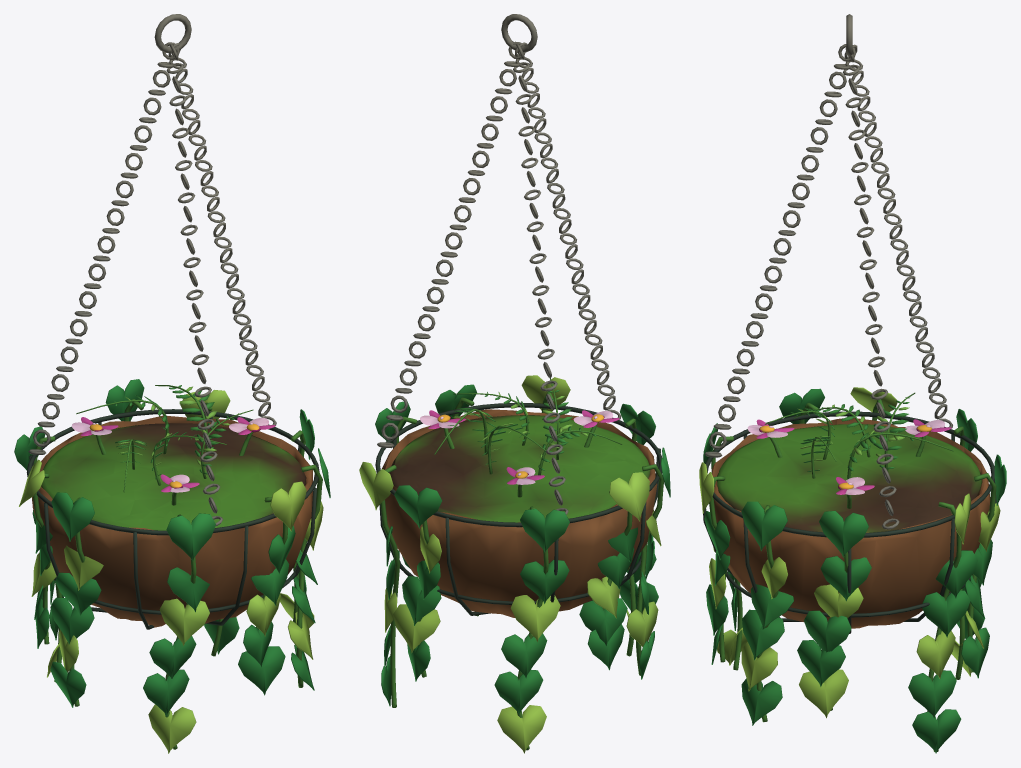
File: canopy_hanging_basket.glb
3 renders of one model, left to right at view 1: azimuth 30°, elevation 25°; view 2: azimuth 150°, elevation 25°; view 3: azimuth 270°, elevation 25°, orthographic.
Parts seen in each view (by area): view 1: canopy_hanging_basket; view 2: canopy_hanging_basket; view 3: canopy_hanging_basket.
Part boxes in pixels (<box>): canopy_hanging_basket: <box>14,14,330,753</box>; canopy_hanging_basket: <box>359,14,670,753</box>; canopy_hanging_basket: <box>699,14,1006,753</box>.
Bounding box in the file's own units: 16.19 × 38.89 × 15.58.
